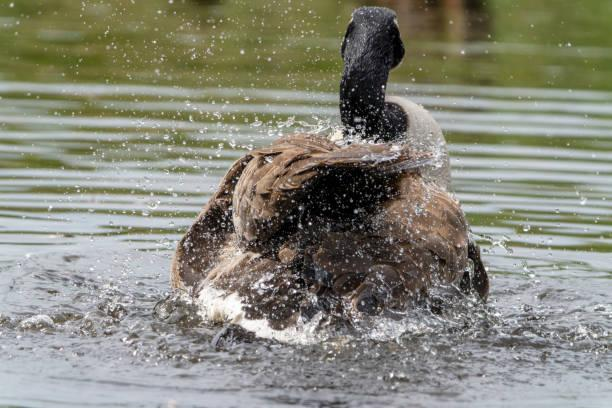Canadian-Goose: (171, 5, 494, 341)
